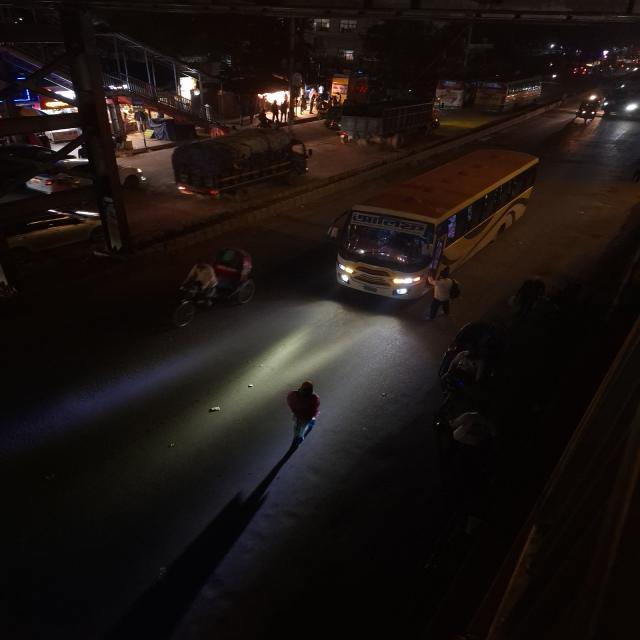bus: (324, 146, 545, 299), (477, 76, 544, 112)
car: (602, 88, 640, 120)
cng: (571, 98, 606, 124)
motorcycle: (121, 166, 152, 193)
pedestrian: (424, 275, 464, 321)
rickshaw: (167, 242, 261, 331)
truck: (179, 130, 314, 202), (333, 100, 446, 150)
